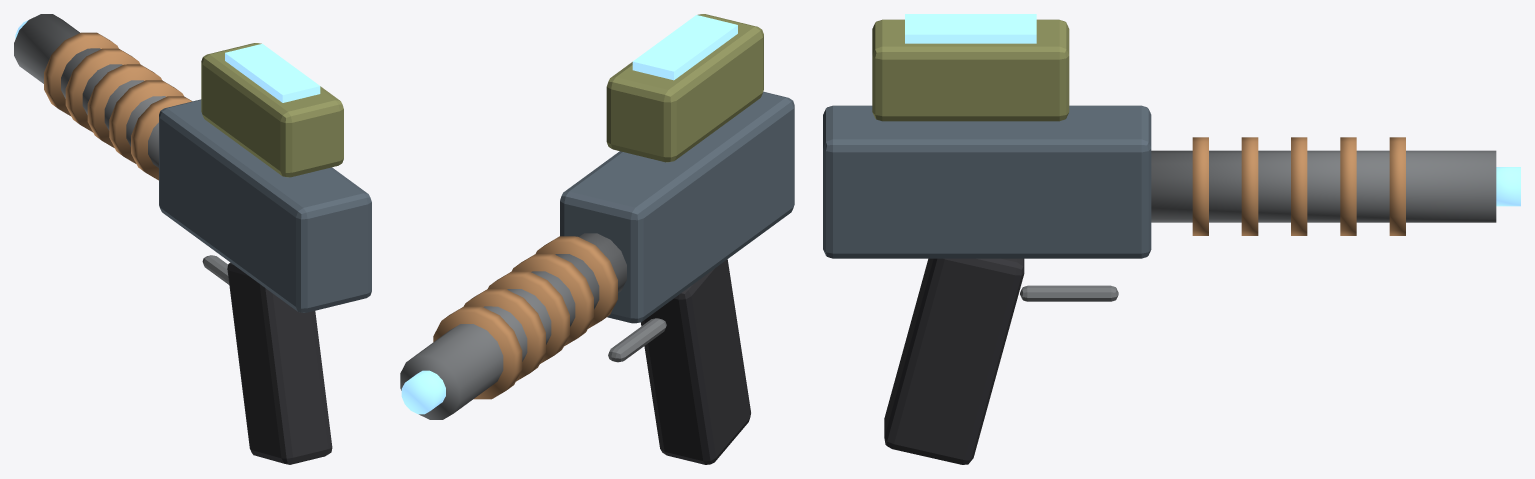
Rendered from arc_cutter.glb.
The picture shows the model from 3 angles, left to right: view 1: azimuth 30°, elevation 25°; view 2: azimuth 150°, elevation 25°; view 3: azimuth 270°, elevation 25°; orthographic projection. The views are drawn at different scales.
Parts seen in each view (by area): view 1: Cube, Cube.003, Cube.001, Cylinder, Cube.002, Cylinder.003, Cylinder.004, Cylinder.002, Cylinder.005, Cylinder.001, Cube.004; view 2: Cube, Cube.003, Cube.001, Cylinder, Cube.002, Cylinder.005, Cylinder.004, Cylinder.002, Cylinder.001, Cylinder.003, Cylinder.006, Cube.004; view 3: Cube, Cube.003, Cylinder, Cube.001, Cube.002, Cylinder.002, Cylinder.001, Cylinder.003, Cylinder.004, Cylinder.005, Cube.004, Cylinder.006.
Boxes of the visible parts, x1,y1,x2,y2 form: Cube: (159, 99, 371, 312); Cube.003: (227, 262, 332, 464); Cube.001: (201, 43, 343, 177); Cylinder: (14, 14, 165, 167); Cube.002: (225, 43, 320, 102); Cylinder.003: (87, 64, 161, 147); Cylinder.004: (65, 48, 139, 132); Cylinder.002: (109, 80, 183, 163); Cylinder.005: (44, 32, 118, 116); Cylinder.001: (131, 96, 192, 180); Cube.004: (202, 255, 229, 284); Cube: (560, 91, 794, 323); Cube.003: (641, 259, 750, 464); Cube.001: (606, 14, 763, 162); Cylinder: (400, 233, 626, 419); Cube.002: (632, 15, 737, 80); Cylinder.005: (433, 306, 522, 399); Cylinder.004: (463, 289, 545, 381); Cylinder.002: (512, 254, 593, 346); Cylinder.001: (535, 236, 617, 328); Cylinder.003: (488, 271, 569, 363); Cylinder.006: (401, 370, 445, 414); Cube.004: (608, 318, 666, 362); Cube: (823, 105, 1151, 258); Cube.003: (884, 258, 1024, 464); Cylinder: (1151, 150, 1496, 222); Cube.001: (872, 19, 1069, 121); Cube.002: (905, 14, 1036, 43); Cylinder.002: (1241, 137, 1258, 235); Cylinder.001: (1192, 137, 1208, 235); Cylinder.003: (1291, 137, 1307, 235); Cylinder.004: (1340, 137, 1356, 235); Cylinder.005: (1389, 137, 1405, 235); Cube.004: (1020, 285, 1118, 301); Cylinder.006: (1496, 167, 1520, 206).
Size of the model in its own units: 0.06 by 0.2892 by 0.425.
